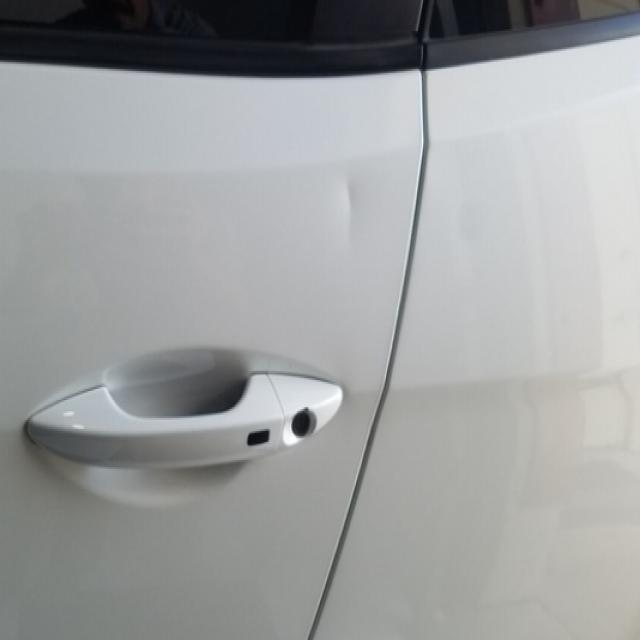dents: (314, 150, 383, 262)
